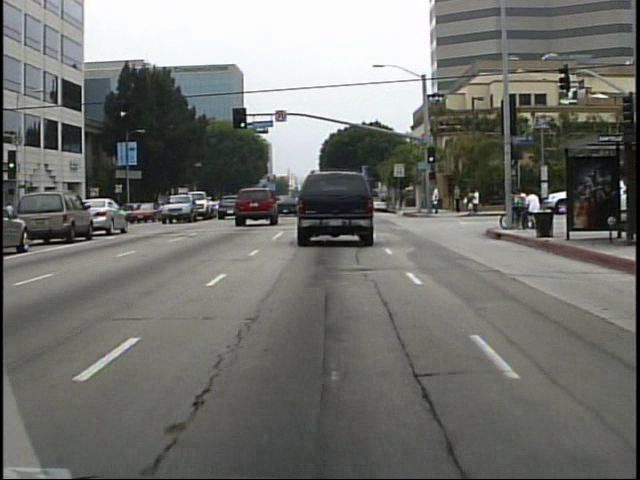person: (429, 183, 443, 219), (451, 181, 464, 217), (395, 186, 407, 212)
